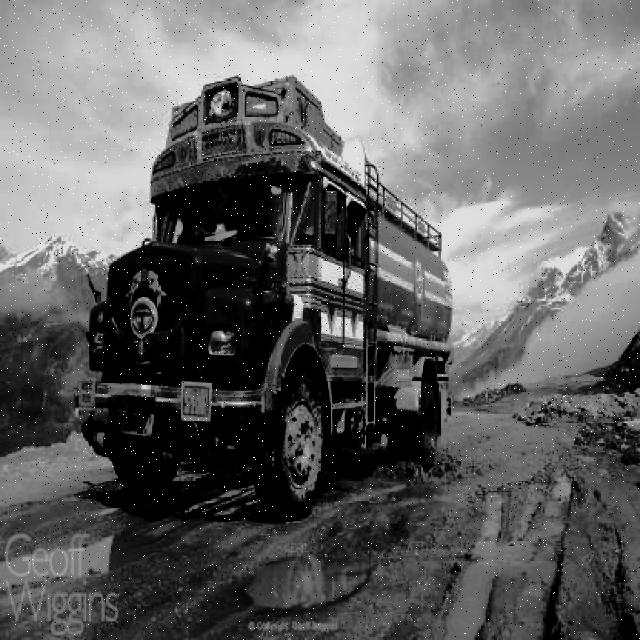HCV: (125, 83, 450, 520)
